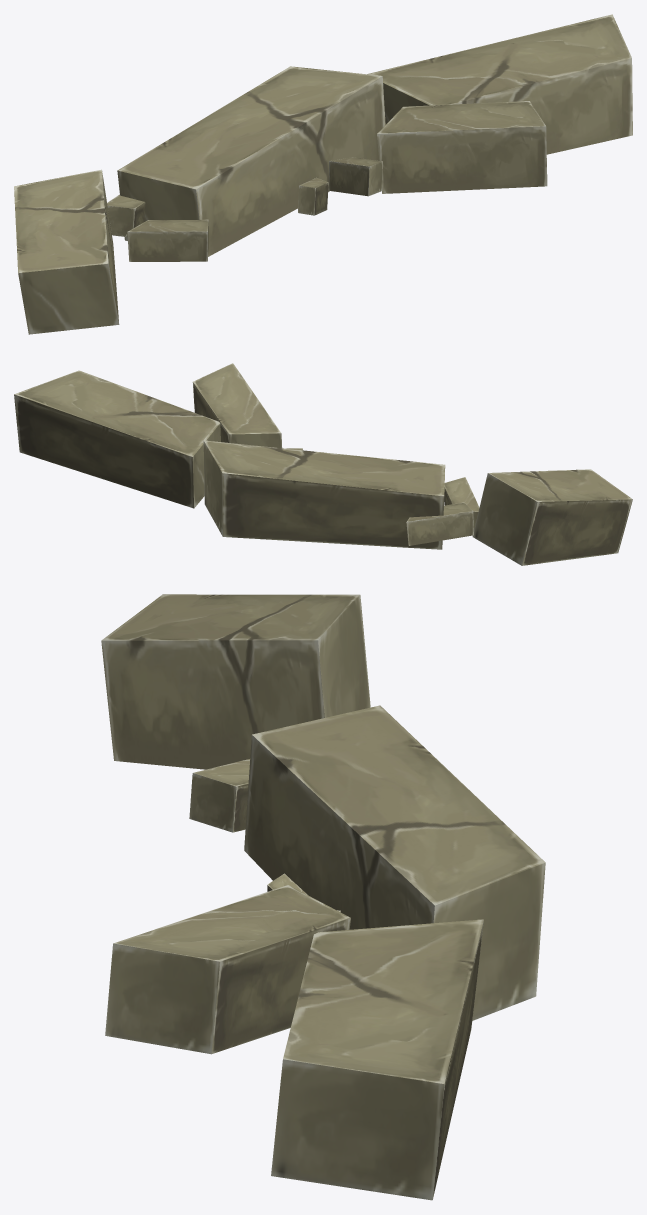
Rendered from wallrocks_base1.fbx.
3 views of the same model, one above another, from view 1: azimuth 30°, elevation 25°; view 2: azimuth 150°, elevation 25°; view 3: azimuth 270°, elevation 25° (orthographic). The views are drawn at different scales.
Parts seen in each view (by area): view 1: rocks3; view 2: rocks3; view 3: rocks3.
Part boxes in pixels (box(x1,y1,x2,y2)): rocks3: box(14, 14, 632, 334); rocks3: box(14, 363, 632, 565); rocks3: box(101, 594, 545, 1200).
Bounding box in the file's own units: 1.3 × 0.1889 × 0.4561.
